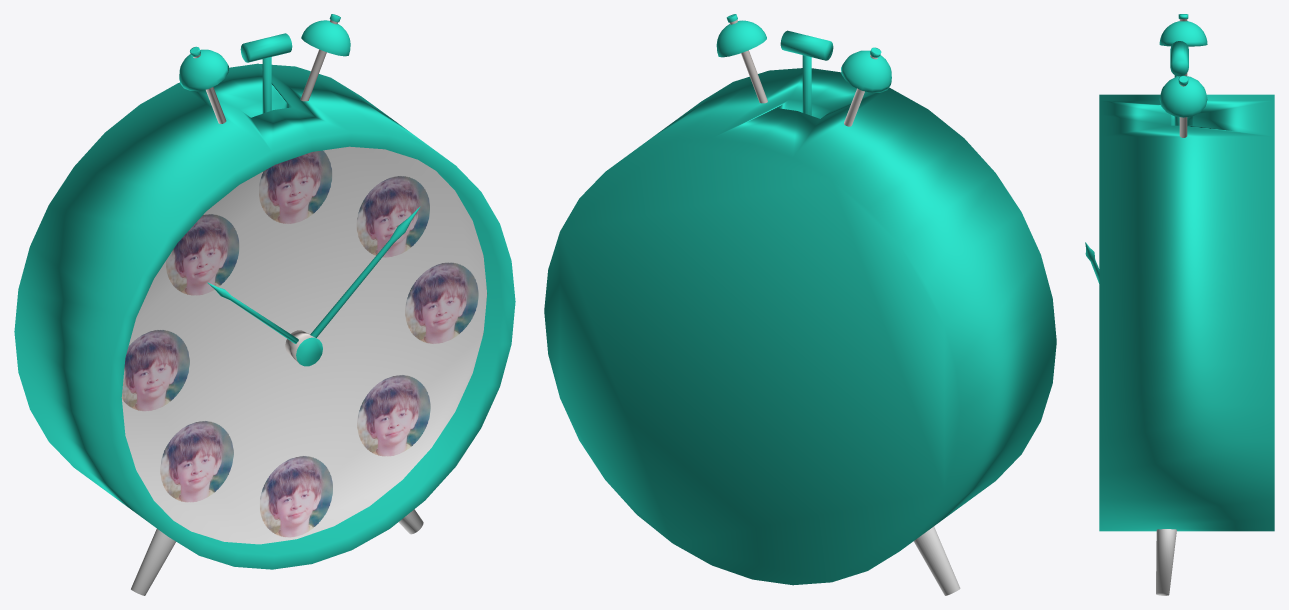
The model's file is clock.glb.
The picture shows the model from 3 angles, left to right: view 1: azimuth 30°, elevation 25°; view 2: azimuth 150°, elevation 25°; view 3: azimuth 270°, elevation 25°; orthographic projection. The views are drawn at different scales.
Visible parts, largest first — view 1: Cylinder.002; view 2: Cylinder.002; view 3: Cylinder.002.
Part boxes in pixels (box(x1,y1,x2,y2)): Cylinder.002: box(14, 14, 515, 595); Cylinder.002: box(544, 14, 1056, 595); Cylinder.002: box(1085, 14, 1274, 595).
Size of the model in its own units: 1.27 by 1.58 by 0.5527.
Materials: 4 (1 with a texture image).
